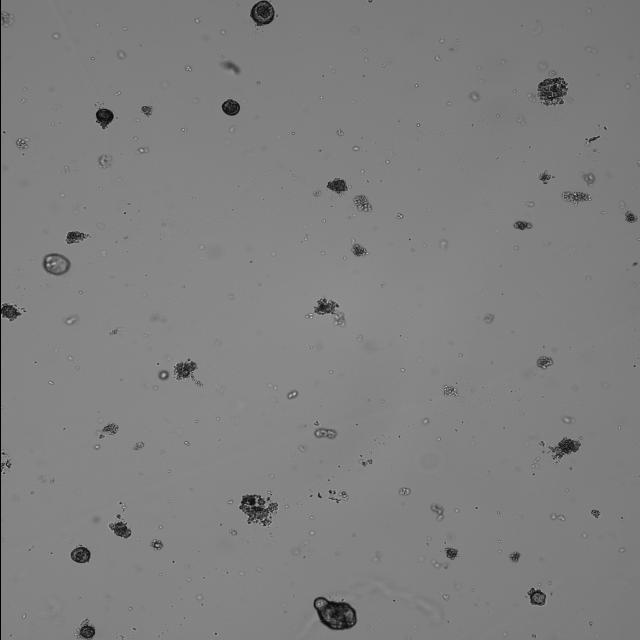alive: (310, 594, 359, 630), (247, 0, 278, 28), (40, 252, 74, 274), (91, 106, 117, 130), (66, 544, 92, 566), (217, 96, 243, 117), (524, 587, 548, 607)
dead: (237, 492, 279, 530), (543, 432, 583, 463), (313, 296, 347, 328), (534, 76, 570, 105), (172, 359, 202, 382), (105, 520, 134, 540), (352, 194, 377, 214), (326, 177, 350, 194), (532, 354, 554, 370), (512, 219, 532, 231)
